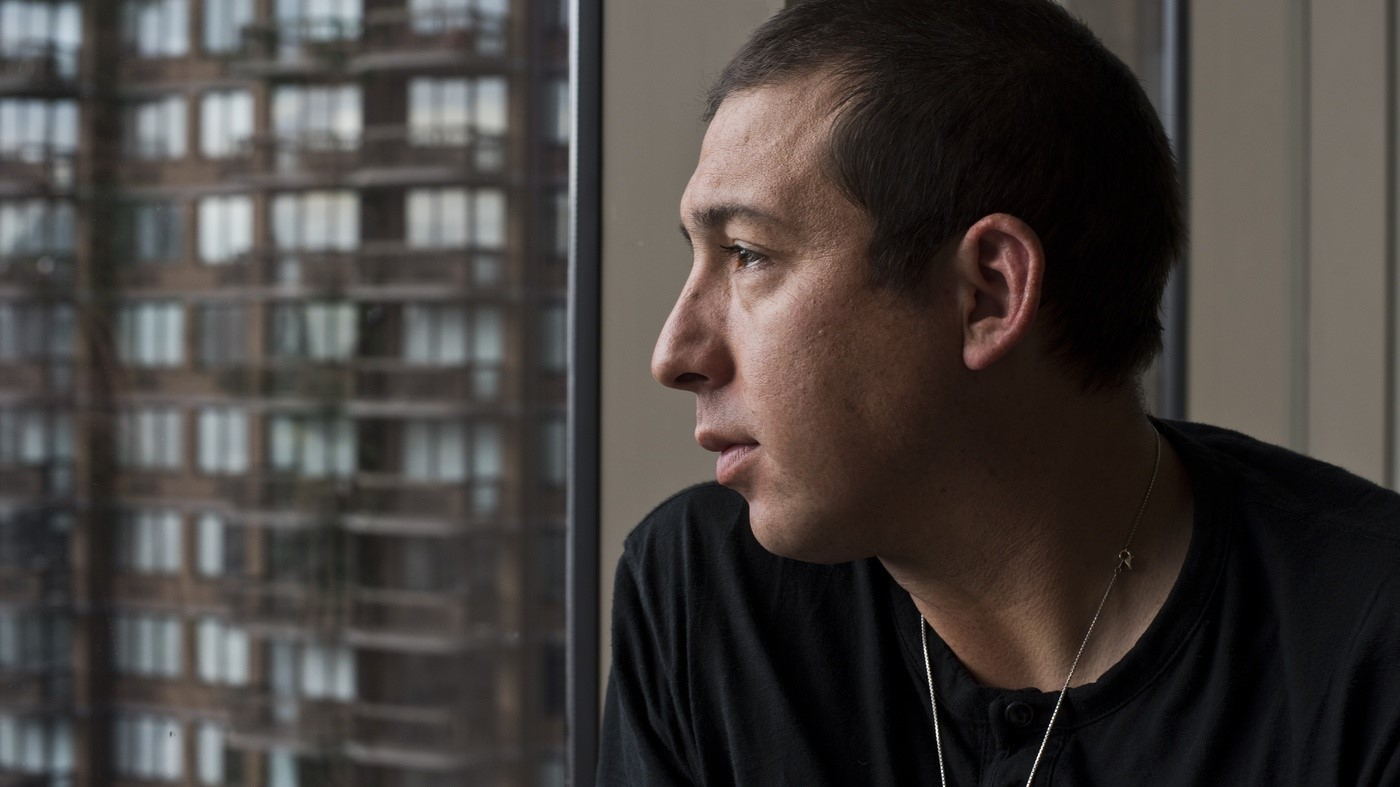face_no_mask: (650, 8, 1176, 540)
